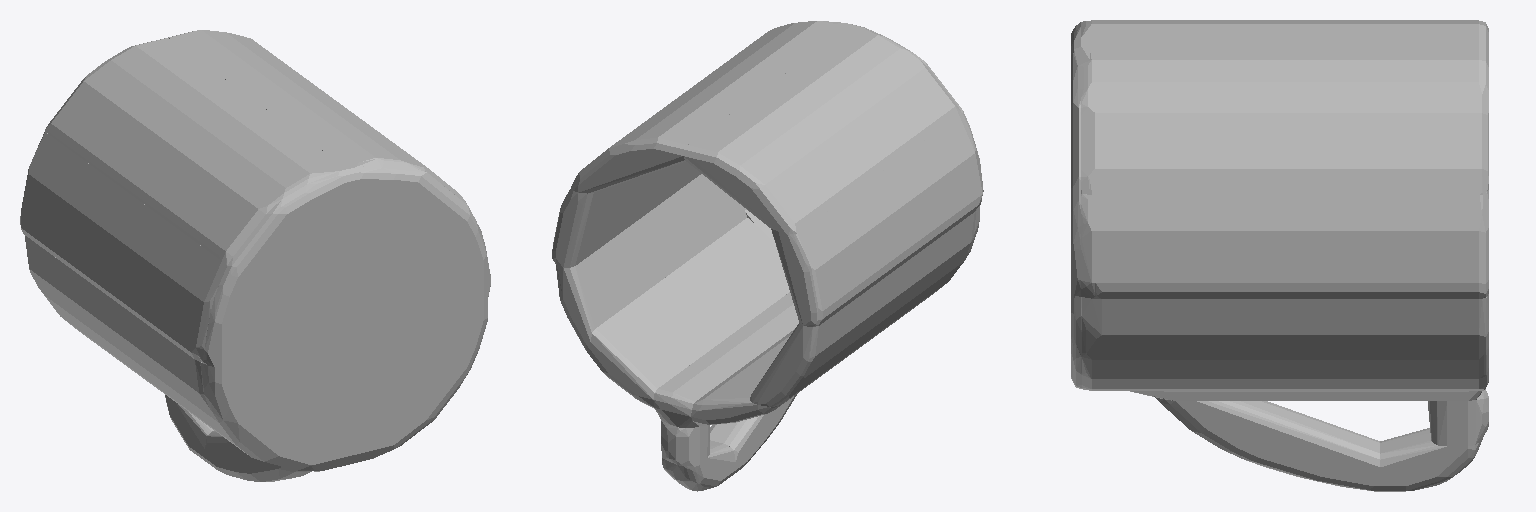
robot.urdf — root:
<?xml version="1.0"?>
<robot name="root">
  <link name="base_link">
    <visual>
      <origin xyz="0 0 0" rpy="0 0 0" />
      <geometry>
        <mesh filename="../meshes/unidex_core_mug-48e260a614c0fd4434a8988fdcee4fde_006.obj" scale="1.0000E+00 1.0000E+00 1.0000E+00" />
      </geometry>
      <material name="">
        <color rgba="7.50E-01 7.50E-01 7.50E-01 1" />
      </material>
    </visual>
    <collision>
      <origin xyz="0 0 0" rpy="0 0 0" />
      <geometry>
        <mesh filename="../meshes/unidex_core_mug-48e260a614c0fd4434a8988fdcee4fde_006.obj" scale="1.0000E+00 1.0000E+00 1.0000E+00" />
      </geometry>
    </collision>
  </link>
</robot>

--- What the picture shows (computed from the rendered views, not written in the file) ---
Views: 3 orthographic renders of the robot side by side, from view 1: azimuth 30°, elevation 25°; view 2: azimuth 150°, elevation 25°; view 3: azimuth 270°, elevation 25°.
Model root with 1 links and 0 joints (none), rooted at base_link, posed every joint at zero.
Links seen in each view (by area): view 1: base_link; view 2: base_link; view 3: base_link.
Boxes of the visible links, x1,y1,x2,y2 form: base_link: (20, 30, 490, 481); base_link: (552, 21, 983, 491); base_link: (1071, 20, 1488, 491).
Size in the robot's own frame: 0.0703 by 0.0781 by 0.0898 metres.
Meshes: 1 distinct files referenced, 1 mesh visuals loaded (1 OBJ).
